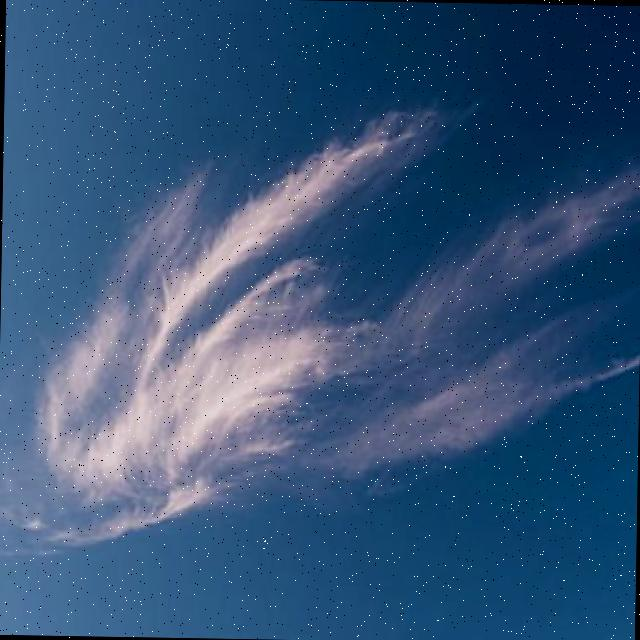Cs: (14, 90, 640, 562)
